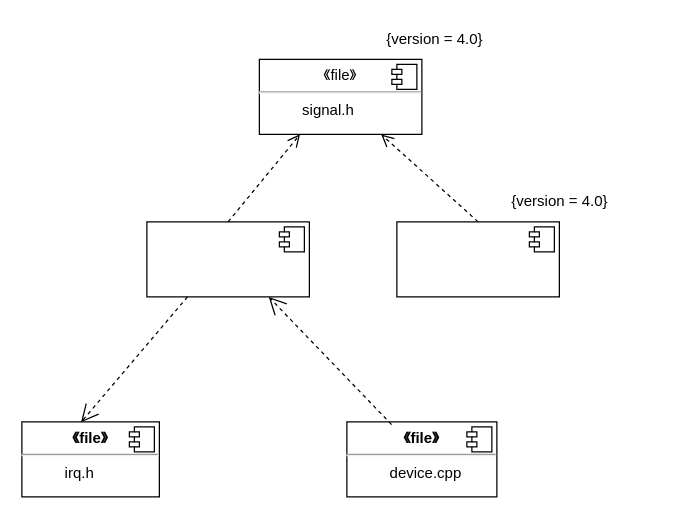
This 694x519 diagram has some shape labels left out. Each missing label, with the box of its shape:
《file》 interp.cpp: (146, 221, 309, 297)
《file》 signal.cpp: (396, 221, 559, 297)
